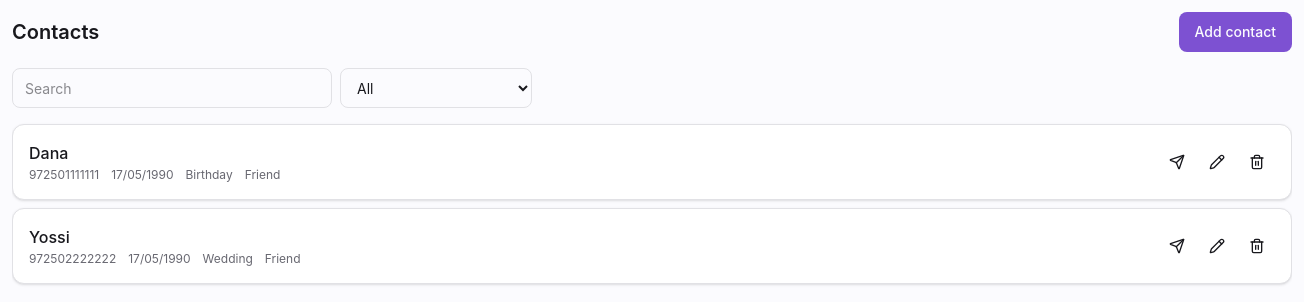
it: search and filter › filters by event type
Expected: the text "Dana" is shown, [29,141,68,165]
Select "Wedding" in the dropdown: point(436, 88) [340,68,532,108]
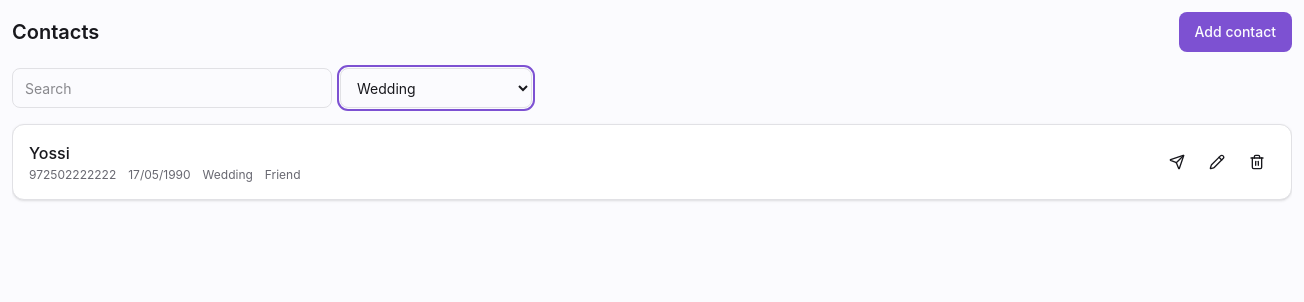
Expected: the text "Yossi" is shown, [29,141,70,165]
Expected: the text "Dana" is gone
